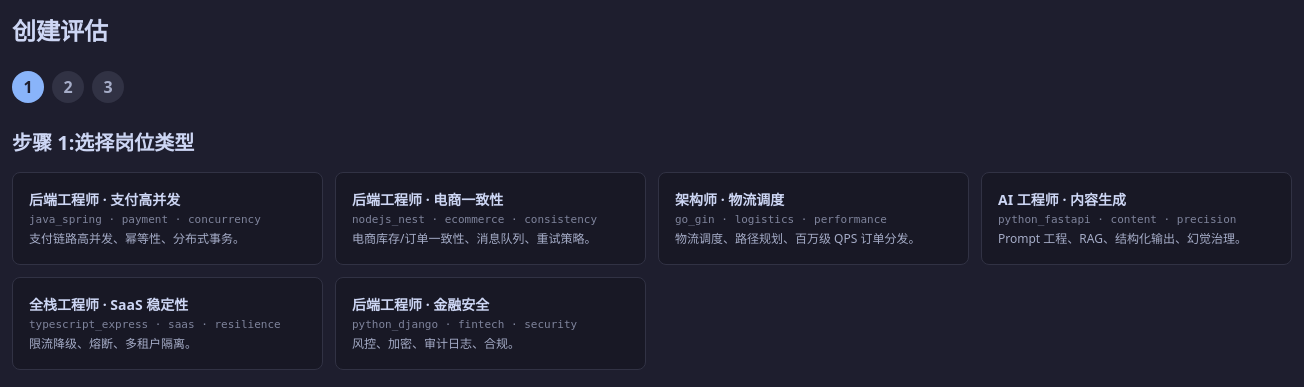
Test: <AdminCreateSessionPage /> › advances from step 1 to step 2 after picking a position
The width and height of the screenshot is (1304, 387).
Click the button with test id "admin-create-step1-position-0" at (168, 218), box [12,172,323,265]
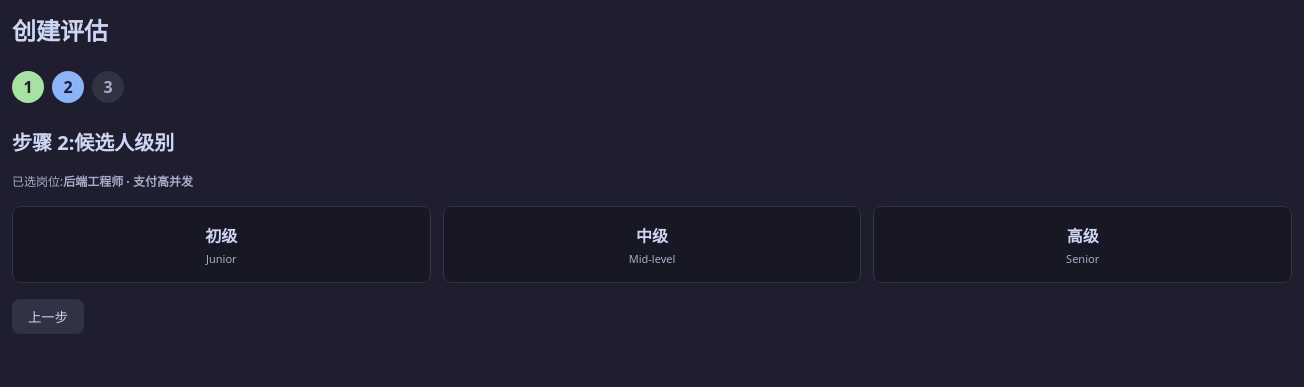
Check: the element with test id "admin-create-step-2" is shown, box [12,127,1292,334]
Check: the button with test id "admin-create-step2-level-junior" is shown, box [12,206,431,283]
Check: the button with test id "admin-create-step2-level-mid" is shown, box [443,206,861,283]
